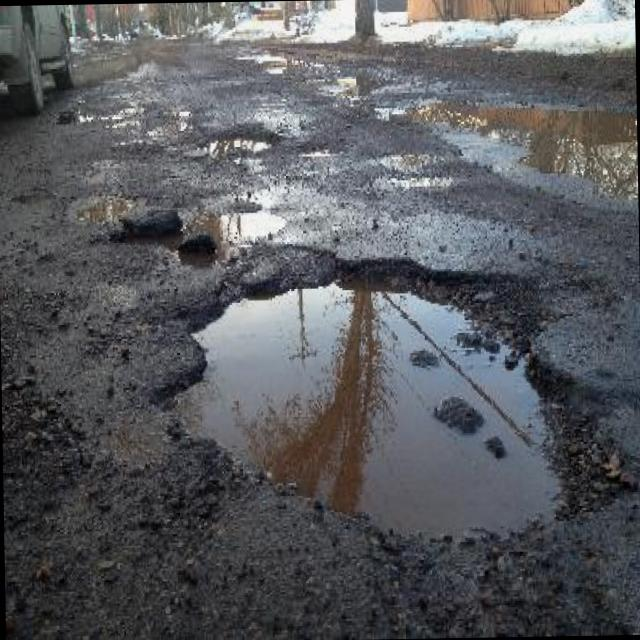Lubang: (158, 254, 624, 549), (207, 121, 278, 158), (221, 209, 284, 241), (72, 194, 138, 224)
